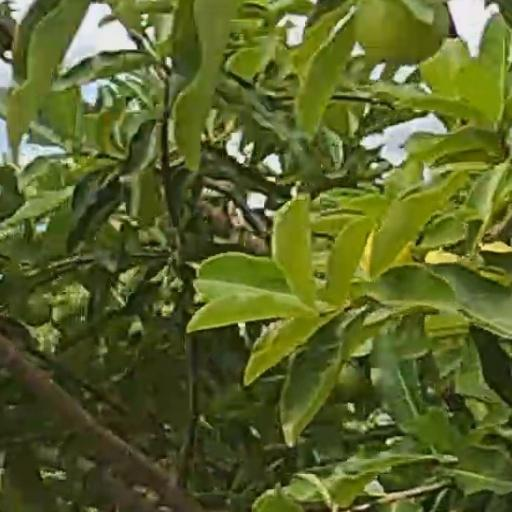acerola: (353, 1, 447, 64)
